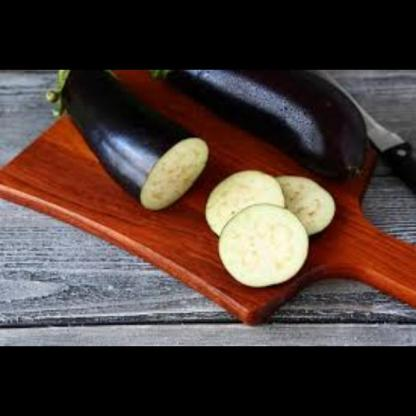eggplant: (55, 69, 220, 229), (164, 69, 372, 175), (195, 155, 343, 301)
